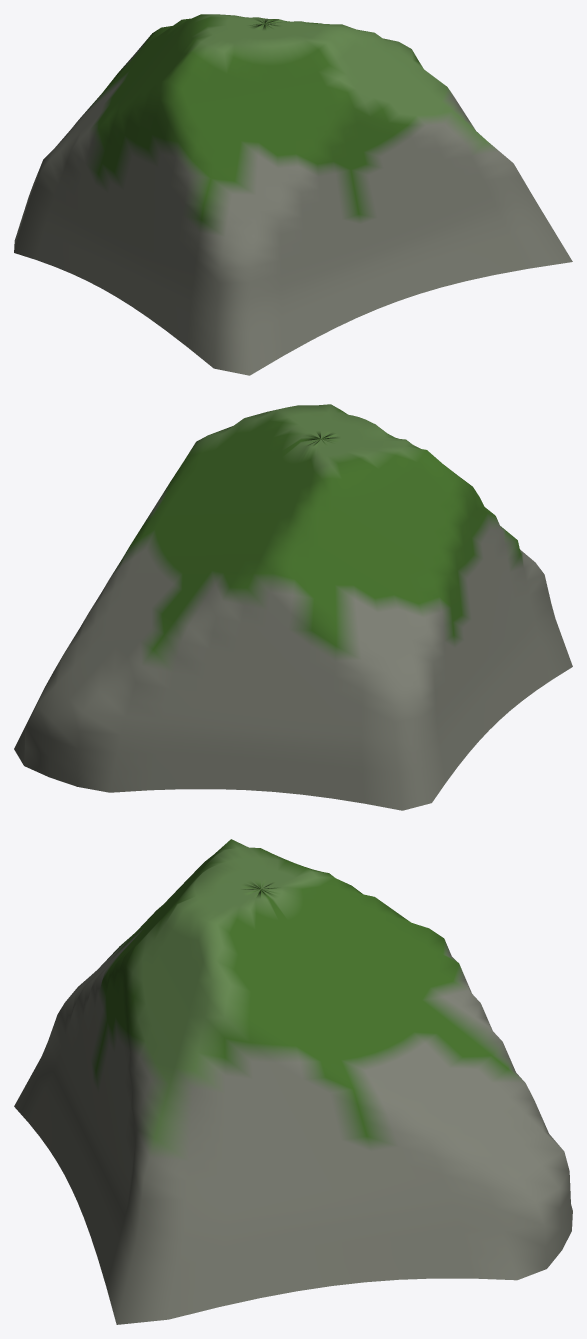
Rendered from rock-boulder-4.obj.
The picture shows the model from 3 angles, top to bottom: view 1: azimuth 30°, elevation 25°; view 2: azimuth 150°, elevation 25°; view 3: azimuth 270°, elevation 25°; orthographic projection. The views are drawn at different scales.
Parts seen in each view (by area): view 1: rock; view 2: rock; view 3: rock.
Part boxes in pixels (box(x1,y1,x2,y2)): rock: box(14, 14, 572, 375); rock: box(14, 404, 572, 810); rock: box(14, 839, 572, 1324).
Size of the model in its own units: 441 by 255 by 433.
